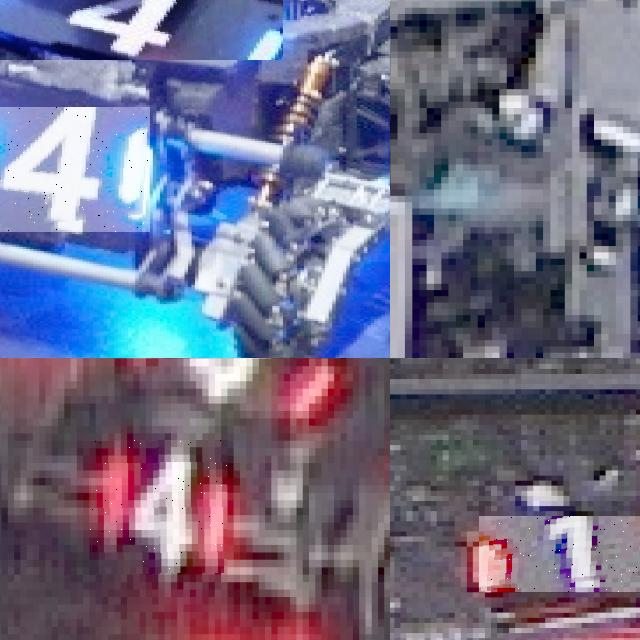B4: (0, 107, 149, 232), (0, 0, 282, 60)
R1: (478, 516, 640, 592)
R4: (90, 440, 228, 574)
